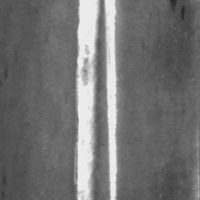scratches: (65, 0, 116, 199), (95, 2, 127, 199)
